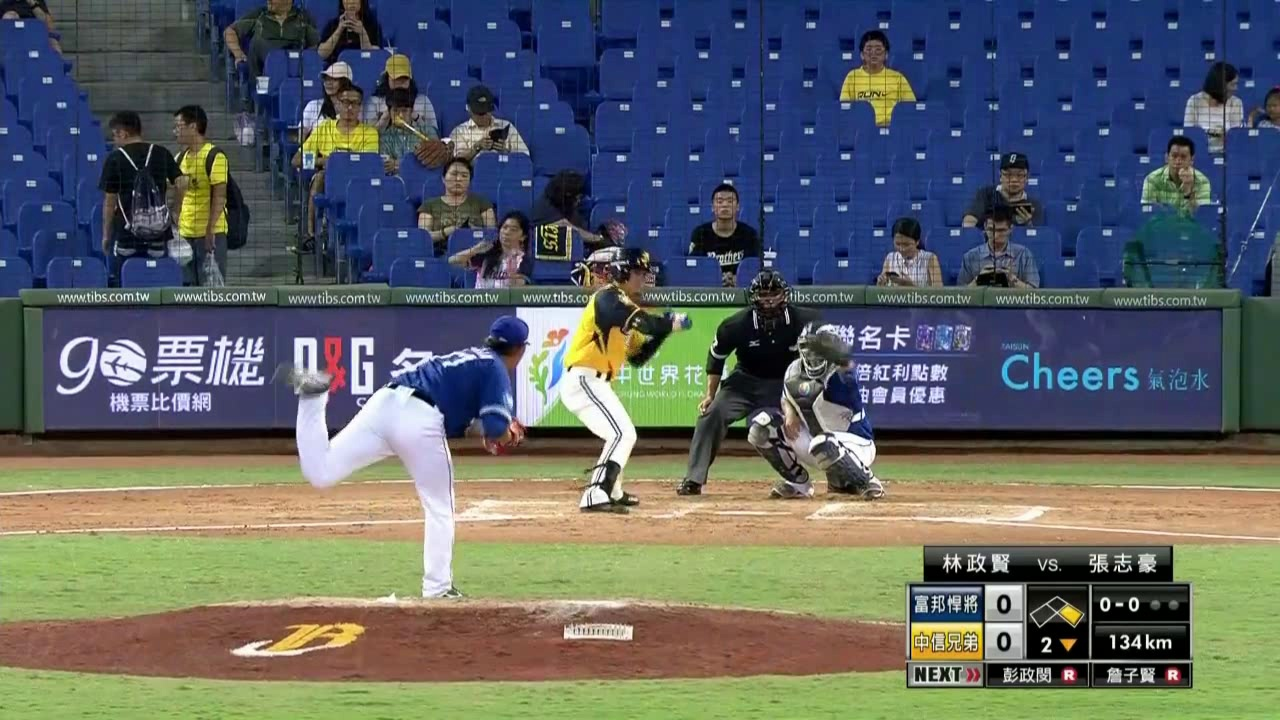base: (1027, 592, 1086, 627)
bat: (582, 275, 694, 335)
out: (1148, 589, 1187, 618)
score1: (987, 588, 1021, 619)
score2: (986, 624, 1020, 656)
session: (1029, 628, 1086, 660)
speed: (1092, 628, 1184, 659)
strikeball: (1093, 589, 1145, 616)
